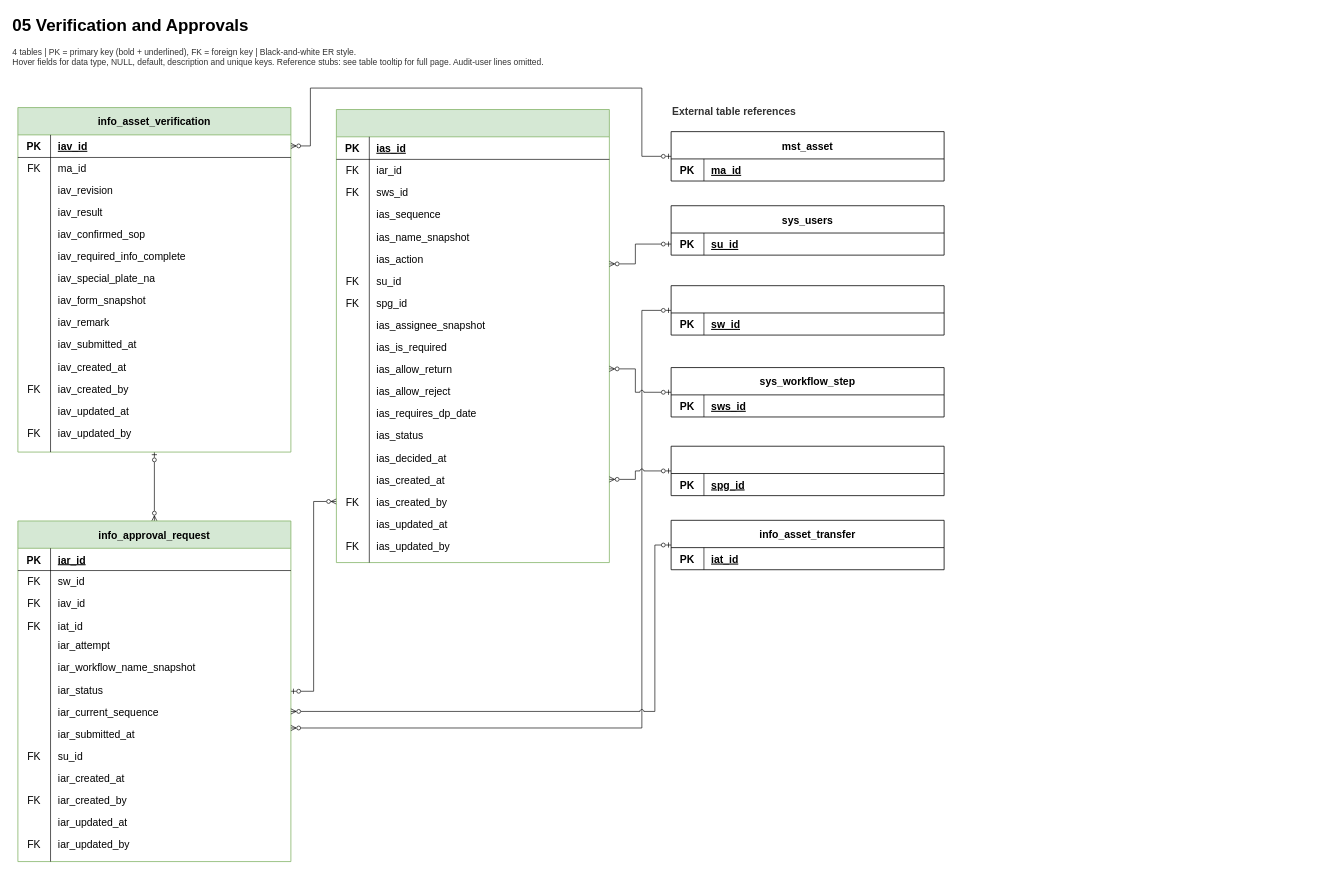
The diagram is 1342 pixels wide and 873 high, and some of its shapes have lost their labels. The box of each missing label's shape, as (x1, y1, x2, y2) in pixels:
info_approval_step: (336, 109, 609, 563)
sys_permission_group: (670, 446, 944, 496)
sys_workflow: (670, 285, 944, 335)
